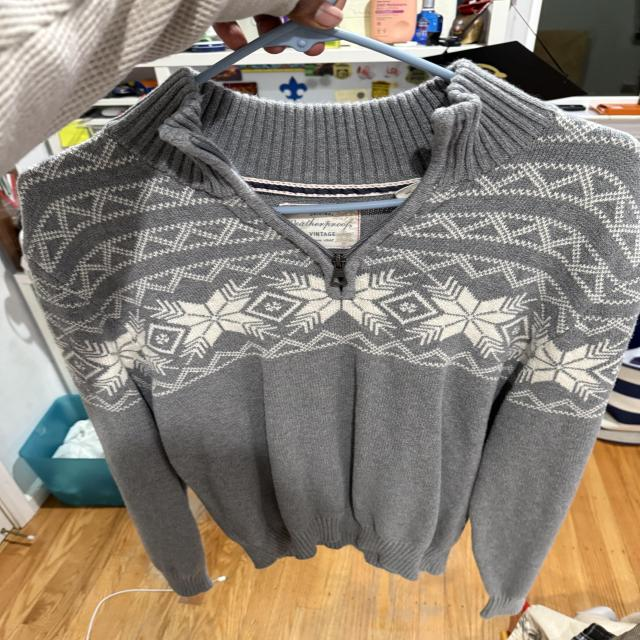back_tag: (278, 203, 366, 256)
